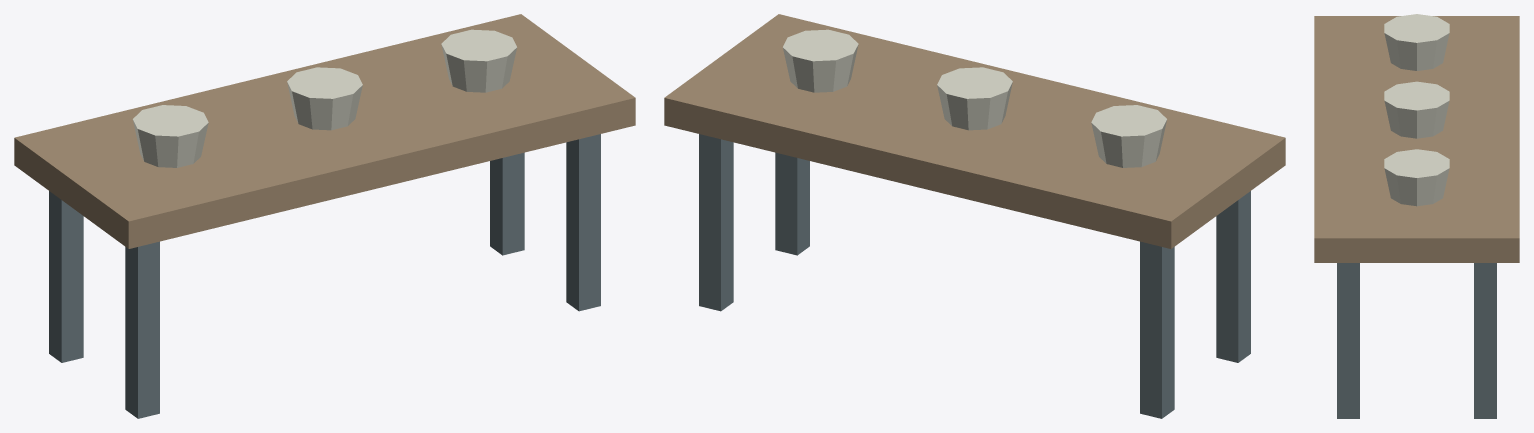
File: zombie-quarantine-streets-food-distribution-table-b72c37f7.glb
3 renders of one model, left to right at view 1: azimuth 30°, elevation 25°; view 2: azimuth 150°, elevation 25°; view 3: azimuth 270°, elevation 25°, orthographic. The views are drawn at different scales.
Parts seen in each view (by area): view 1: food-distribution-table; view 2: food-distribution-table; view 3: food-distribution-table.
Boxes of the visible parts, <box> form: food-distribution-table: <box>14,14,635,418</box>; food-distribution-table: <box>664,14,1285,418</box>; food-distribution-table: <box>1314,14,1519,418</box>.
Bounding box in the file's own units: 2.3 × 1.07 × 0.8999.
